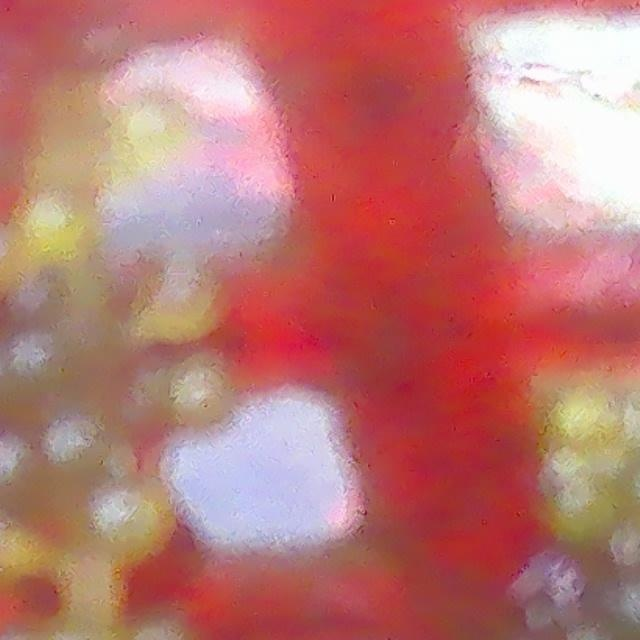SeaGrape: (86, 478, 174, 562), (17, 181, 89, 271)
